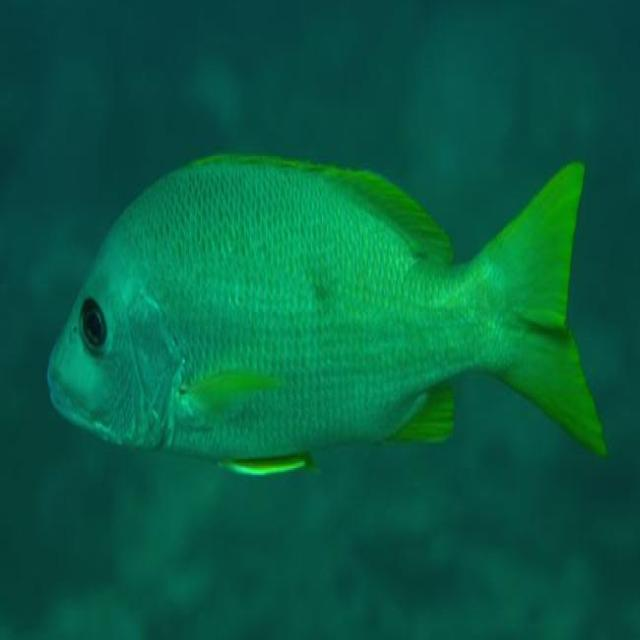ikan: (45, 149, 608, 477)
